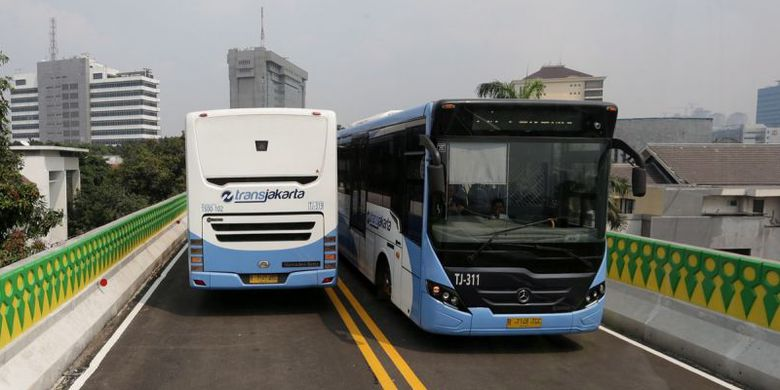plate: (507, 315, 541, 326), (249, 274, 277, 285)
